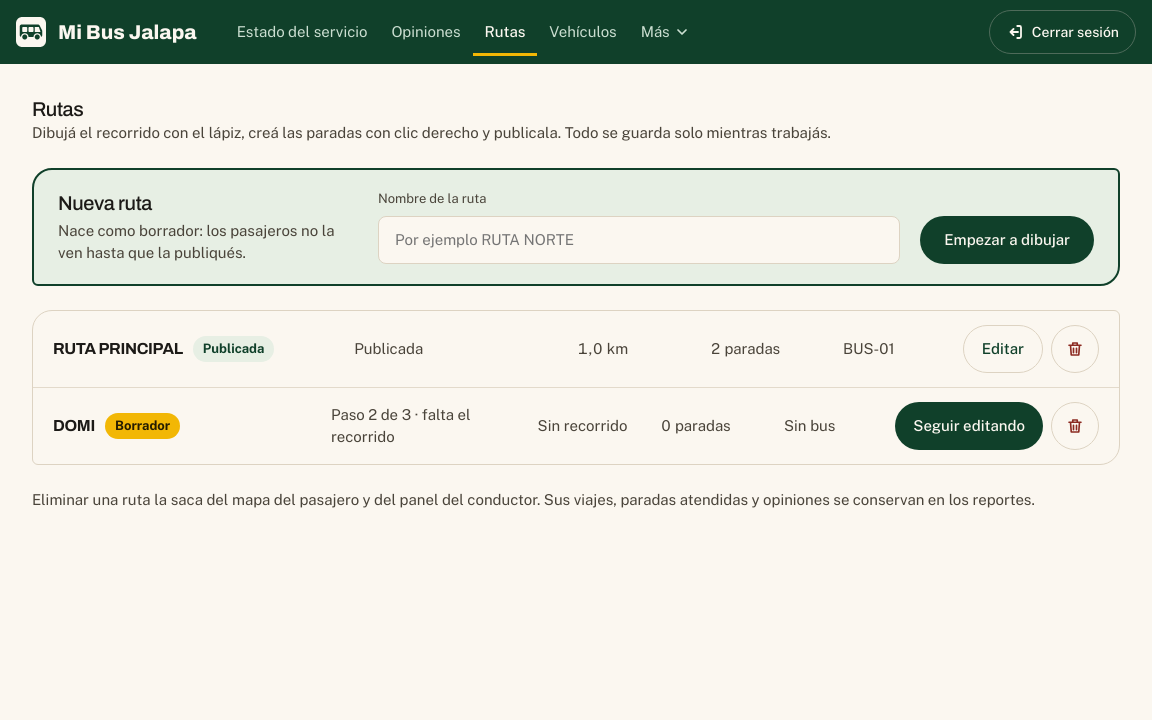
Test: Rutas del panel municipal › cancelar no elimina nada
Step 1. Click the button named "Eliminar RUTA PRINCIPAL" → x=1075, y=349, box [1051,325,1099,373]
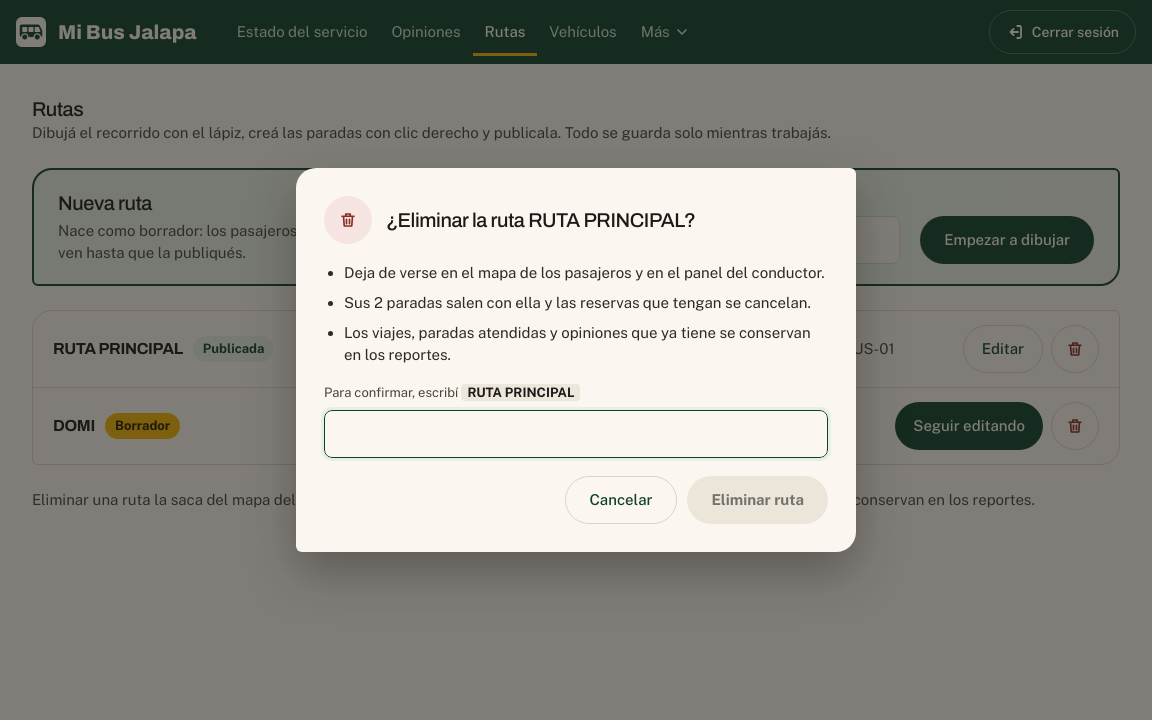
Step 2. Click the button "Cancelar" → x=621, y=500, box [564,476,677,524]
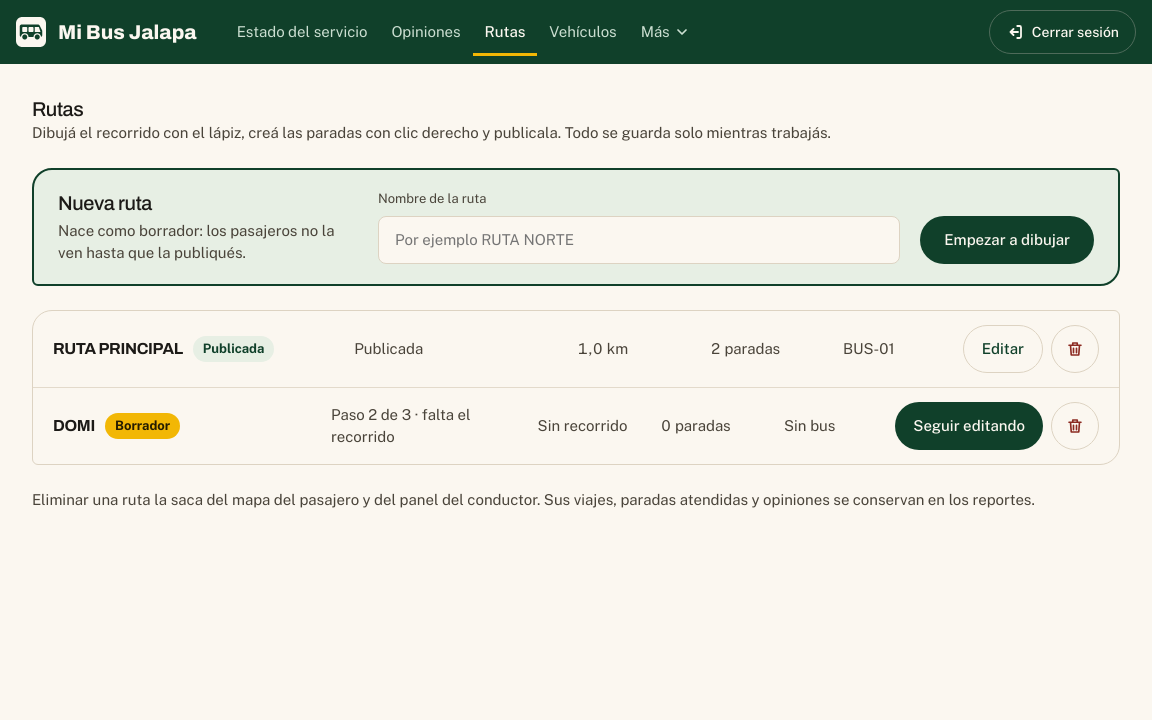
expect the dialog is gone: met
